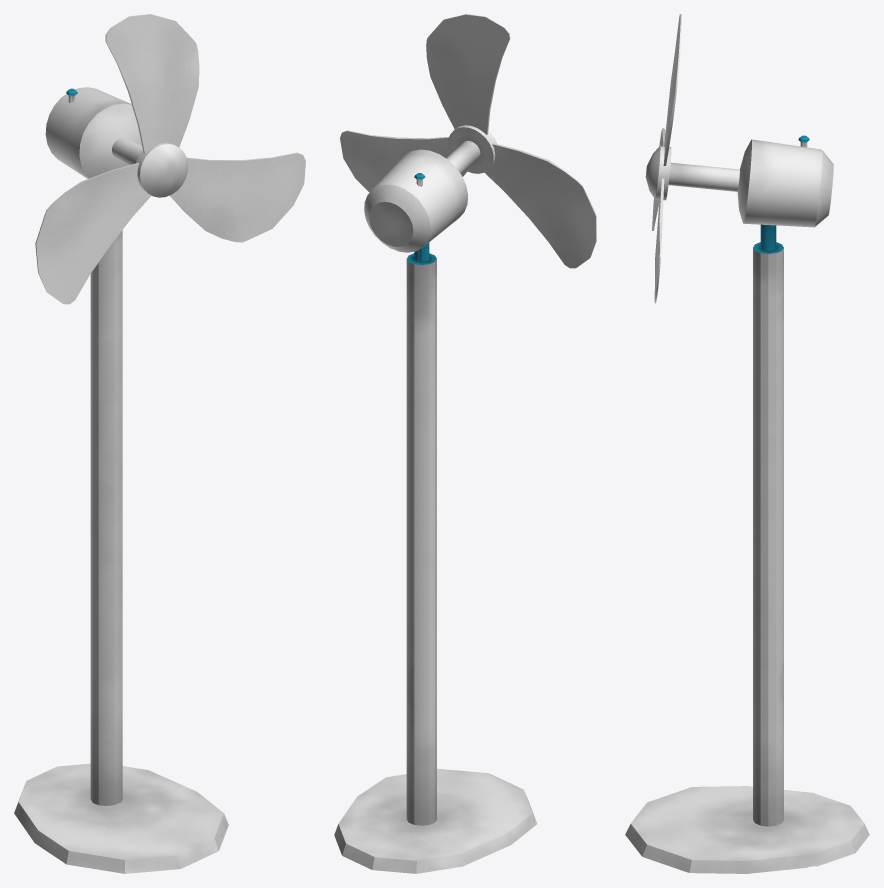
Rendered from Ventilador_De_Pie_SIN_REJILLAS.fbx.
3 views of the same model, side by side, from view 1: azimuth 30°, elevation 25°; view 2: azimuth 150°, elevation 25°; view 3: azimuth 270°, elevation 25° (orthographic). The views are drawn at different scales.
Parts seen in each view (by area): view 1: Cylinder.004, Plane, Plane.003, Cylinder.003, Plane.004; view 2: Cylinder.004, Cylinder.003, Plane.003, Plane, Plane.004; view 3: Cylinder.004, Cylinder.003, Plane, Plane.004.
Boxes of the visible parts, bbox=[...] form: Cylinder.004: bbox=[14, 230, 228, 873]; Plane: bbox=[105, 14, 199, 153]; Plane.003: bbox=[35, 163, 151, 304]; Cylinder.003: bbox=[45, 87, 188, 197]; Plane.004: bbox=[170, 152, 305, 242]; Cylinder.004: bbox=[334, 242, 536, 873]; Cylinder.003: bbox=[364, 125, 496, 252]; Plane.003: bbox=[484, 143, 596, 268]; Plane: bbox=[426, 14, 510, 134]; Plane.004: bbox=[340, 130, 467, 192]; Cylinder.004: bbox=[625, 224, 869, 873]; Cylinder.003: bbox=[645, 139, 833, 227]; Plane: bbox=[663, 14, 681, 165]; Plane.004: bbox=[654, 178, 664, 303].
Size of the model in its own units: 173 by 511 by 140.
1 material, 1 textured.
